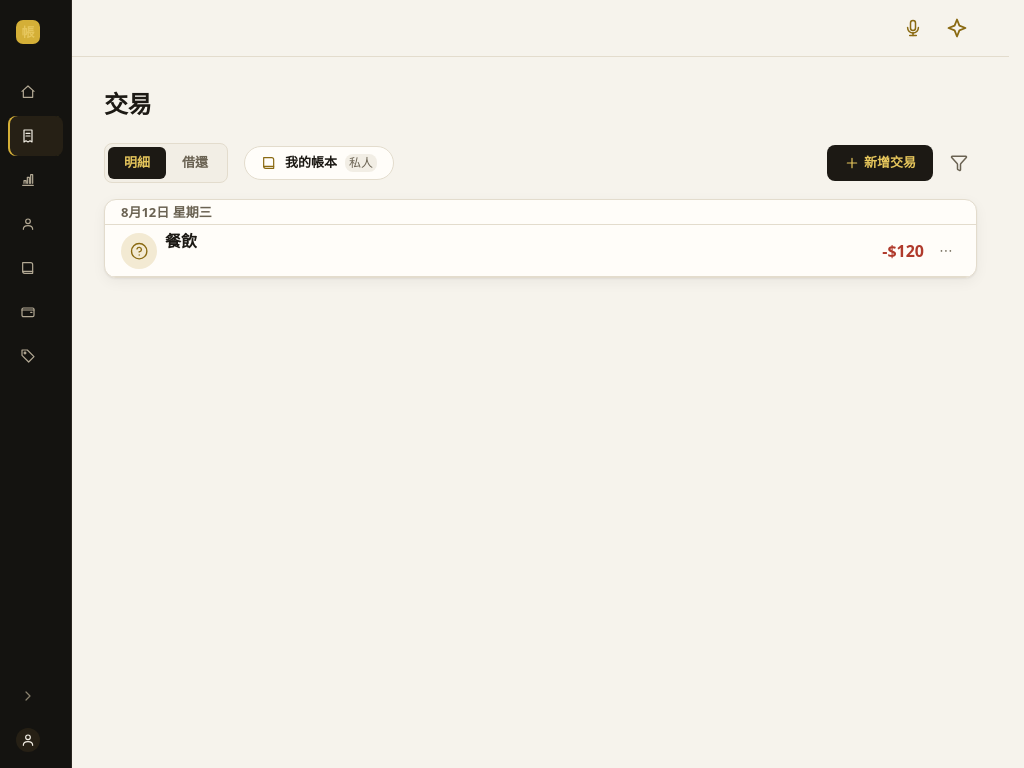
Scenario: Filtering and paging the transaction list › disables the category filter for transfers
Expected: the list item is shown, [105,225,976,277]
Click the button named "篩選" at [959, 163], box [941,145,977,181]
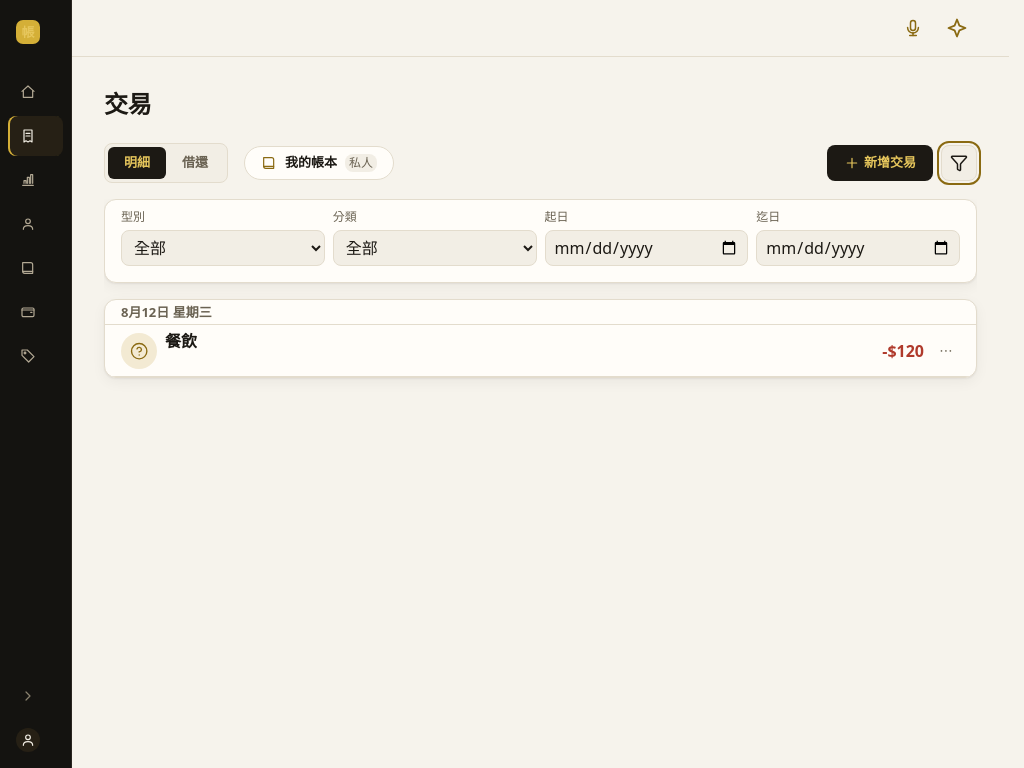
Select "轉帳" in the dropdown labelled "型別" at [223, 248], box [121,230,325,266]
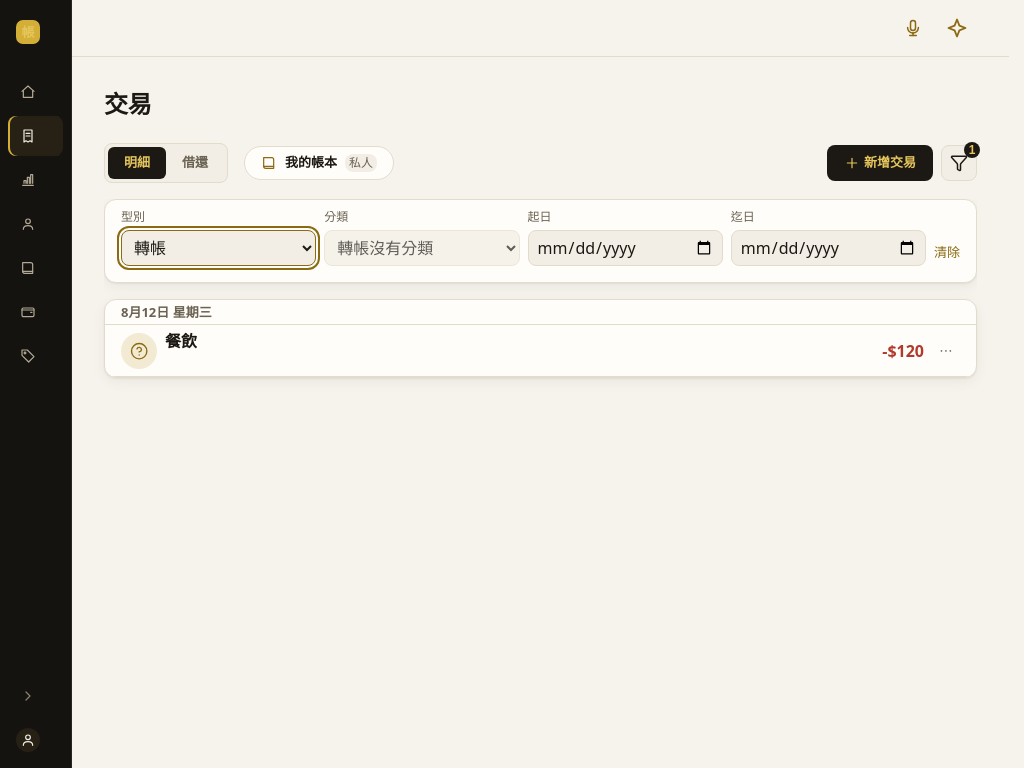
Result: the dropdown labelled "分類" is disabled at [324,230,520,266]
